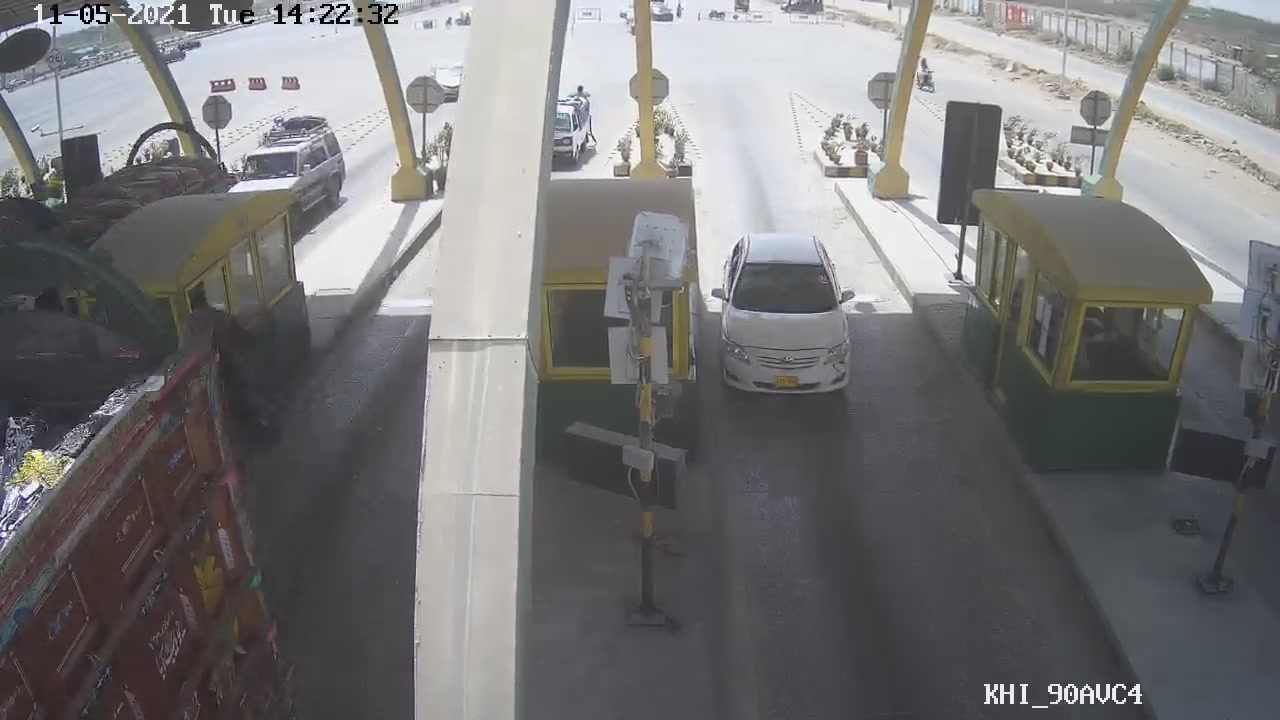F1: (710, 230, 857, 400)
